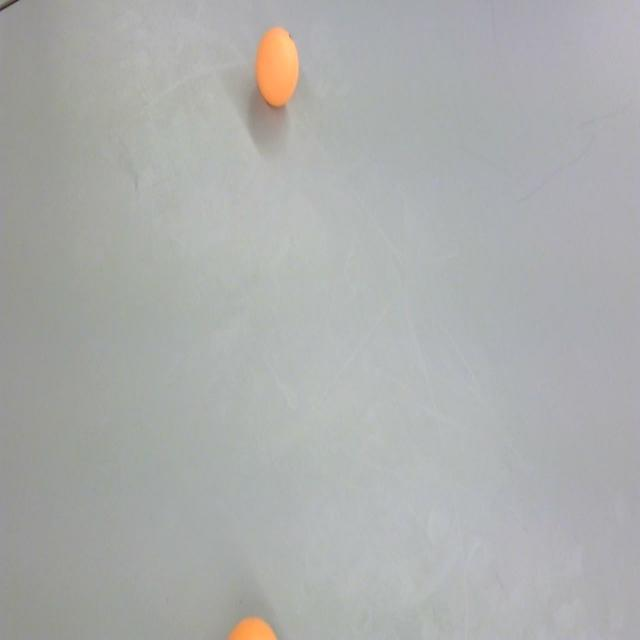ball: (256, 26, 300, 110), (224, 611, 284, 640)
